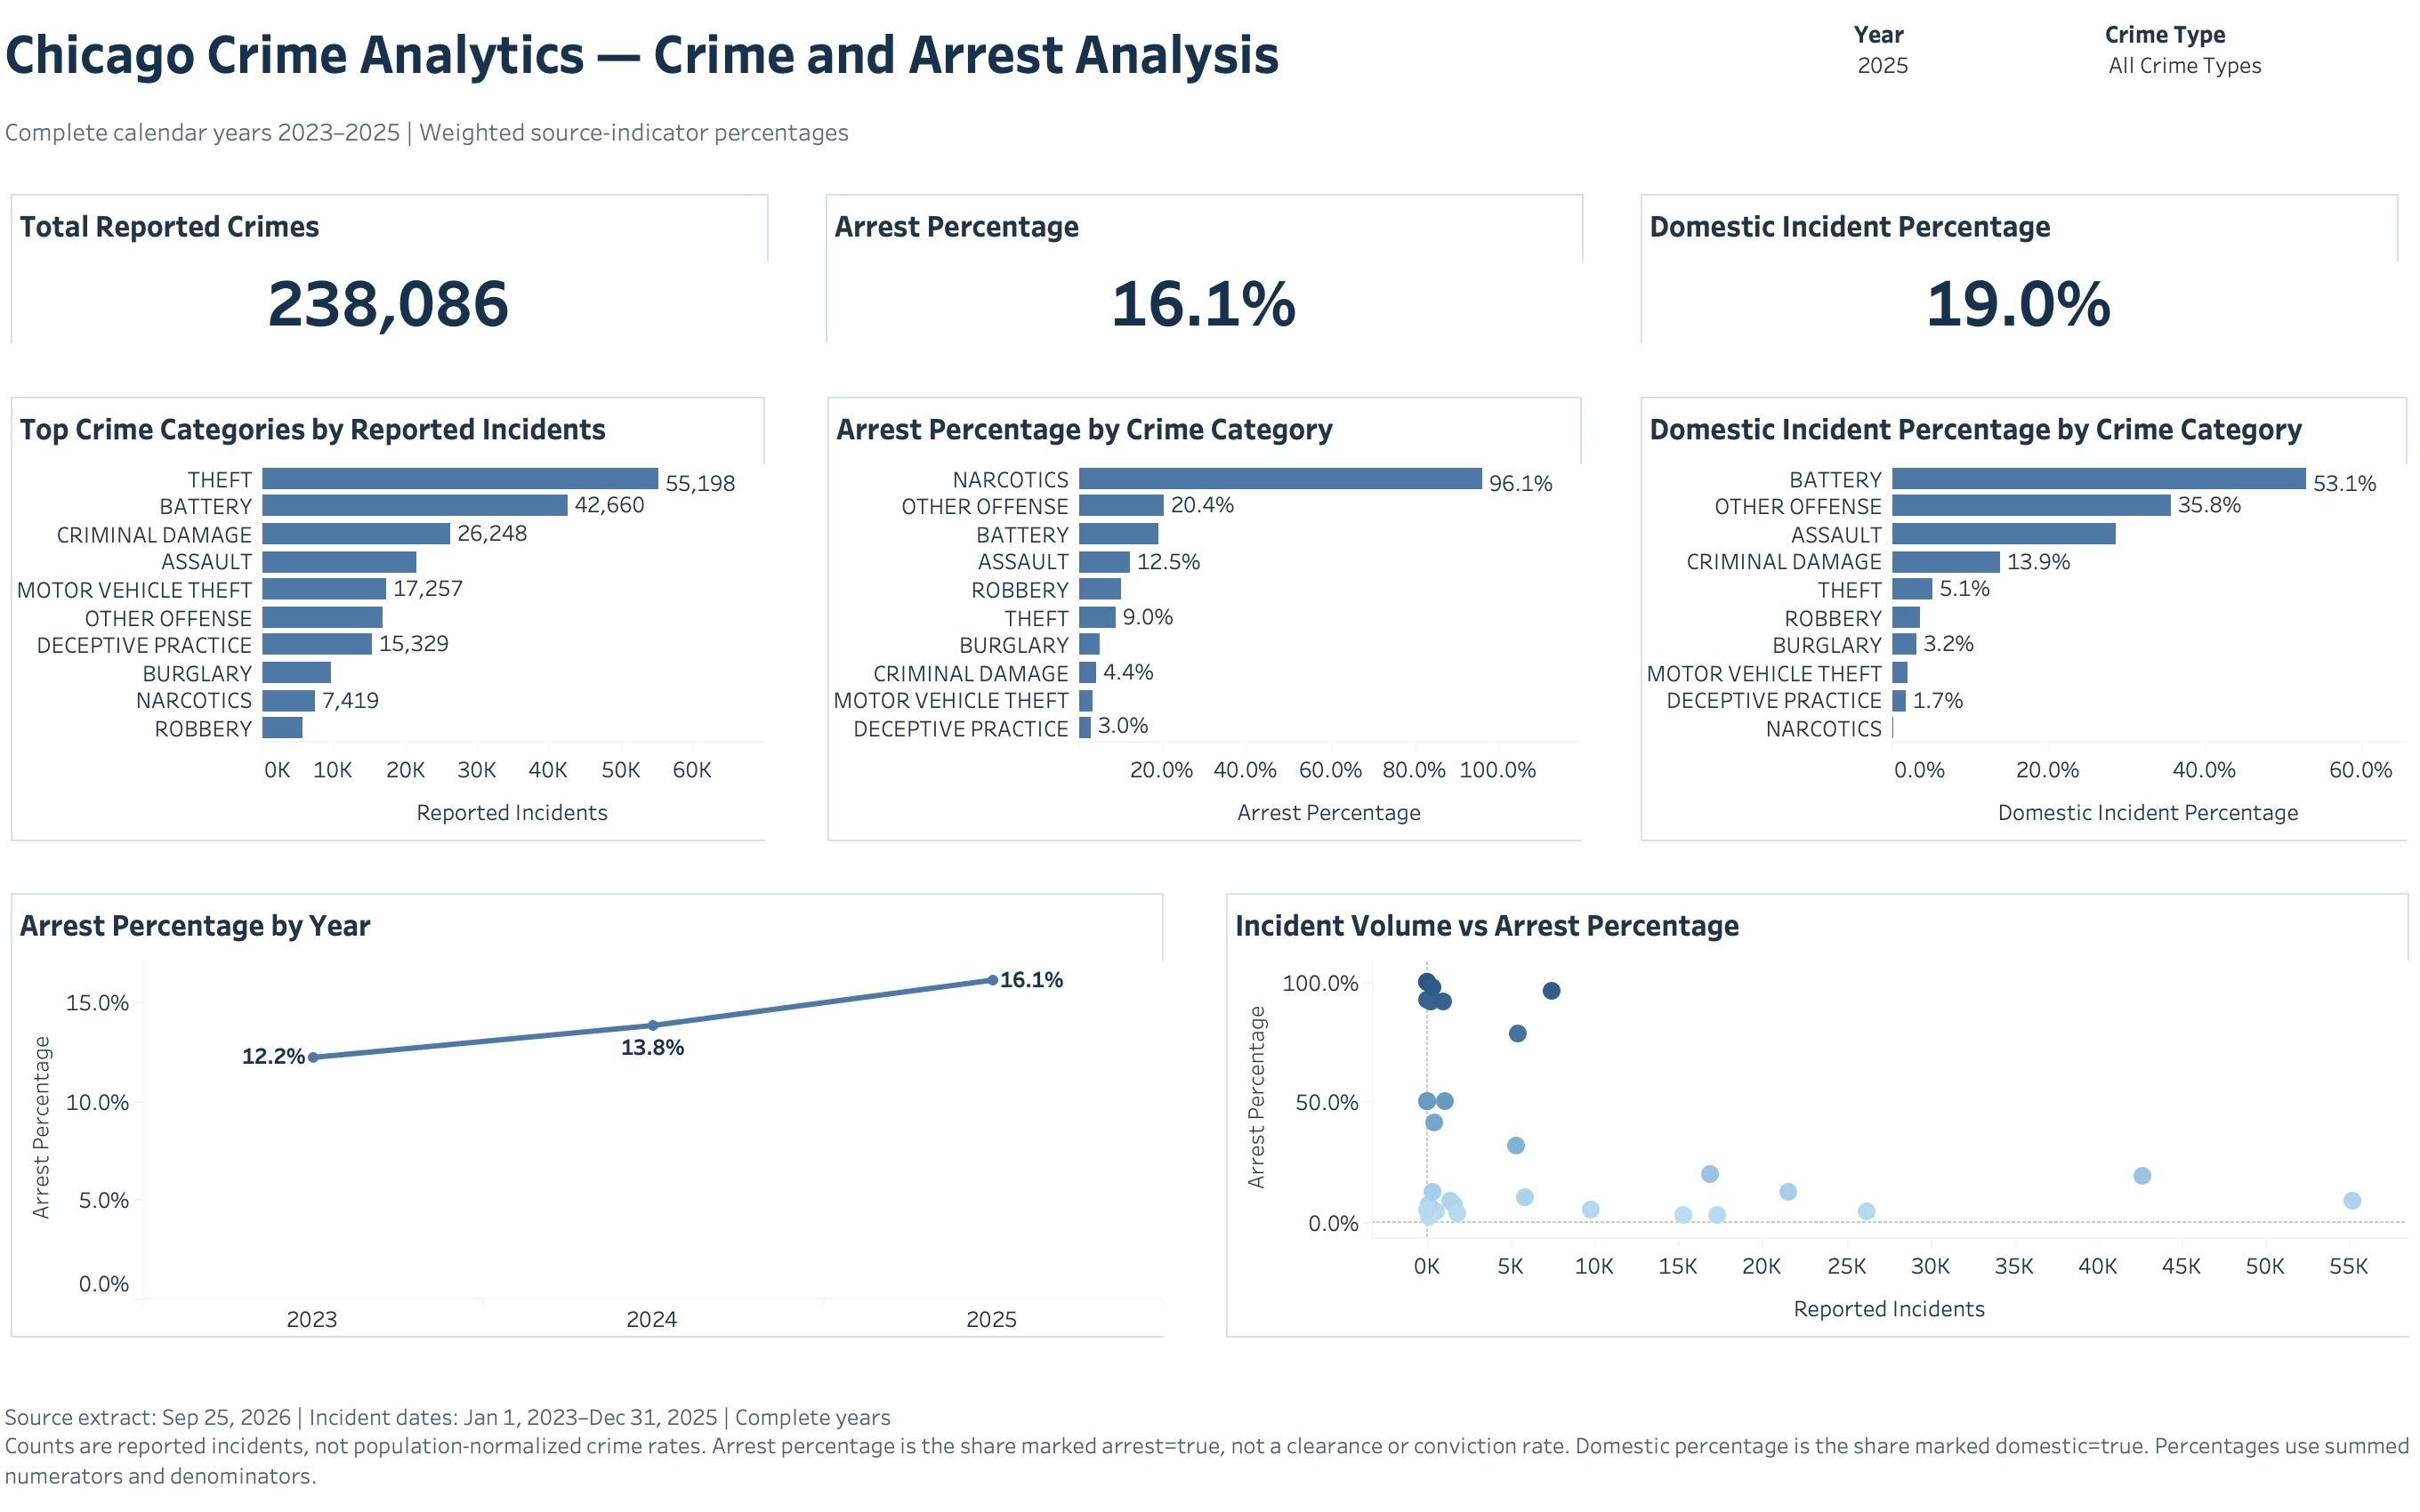

Layout of this report page (visuals, bound fields, positions):
{"tool":"tableau","page":{"name":"Crime and Arrest Analysis","canvas":[1360,850],"ordinal":3},"visuals":[{"type":"title","box":[24.5,10.2,979.2,61.2]},{"type":"parameter","param":"[Parameters].[pSelectedYear]","box":[1033.6,18.7,122.4,44.2]},{"type":"parameter","param":"[Parameters].[pCrimeType]","box":[1169.6,18.7,170,44.2]},{"type":"text","box":[24.5,66.3,979.2,30.6]},{"type":"worksheet","title":"Total Reported Crimes","mark":"Text","box":[24.5,110.5,424.3,93.5]},{"type":"worksheet","title":"P4 Arrest Percentage KPI","mark":"Text","box":[467.8,110.5,424.3,93.5]},{"type":"worksheet","title":"P4 Domestic Percentage KPI","mark":"Text","box":[911.2,110.5,424.3,93.5]},{"type":"worksheet","title":"Crime Category Distribution","mark":"Bar","rows":["primary_type"],"cols":["reported_incident_count"],"box":[24.5,221,421.6,255]},{"type":"worksheet","title":"P4 Arrest Percentage by Category","mark":"Bar","rows":["primary_type"],"cols":["Calculation_Page4ArrestPercentage"],"box":[469.2,221,421.6,255]},{"type":"worksheet","title":"P4 Domestic Percentage by Category","mark":"Bar","rows":["primary_type"],"cols":["Calculation_Page4DomesticPercentage"],"box":[911.2,221,428.4,255]},{"type":"worksheet","title":"P4 Arrest Percentage Trend","mark":"Line","rows":["Calculation_Page4ArrestPercentage"],"cols":["crime_year"],"box":[24.5,493,639.2,255]},{"type":"worksheet","title":"P4 Volume vs Arrest Percentage","mark":"Circle","rows":["Calculation_Page4ArrestPercentage"],"cols":["reported_incident_count"],"box":[685.4,493,655.5,255]},{"type":"text","box":[24.5,765,1316.5,72.2]}]}

Visuals, with their boxes in screenshot pixels (x1, y1, x2, y2), scaled from the page's 1360x850 canvas onto the 2420x1512 screenshot:
title: bbox(44, 18, 1786, 127)
parameter: bbox(1839, 33, 2057, 112)
parameter: bbox(2081, 33, 2384, 112)
text: bbox(44, 118, 1786, 173)
"Total Reported Crimes" worksheet (Text marks): bbox(44, 197, 799, 363)
"P4 Arrest Percentage KPI" worksheet (Text marks): bbox(833, 197, 1587, 363)
"P4 Domestic Percentage KPI" worksheet (Text marks): bbox(1621, 197, 2376, 363)
"Crime Category Distribution" worksheet (Bar marks): bbox(44, 393, 794, 847)
"P4 Arrest Percentage by Category" worksheet (Bar marks): bbox(835, 393, 1585, 847)
"P4 Domestic Percentage by Category" worksheet (Bar marks): bbox(1621, 393, 2384, 847)
"P4 Arrest Percentage Trend" worksheet (Line marks): bbox(44, 877, 1181, 1331)
"P4 Volume vs Arrest Percentage" worksheet (Circle marks): bbox(1220, 877, 2386, 1331)
text: bbox(44, 1361, 2386, 1489)
